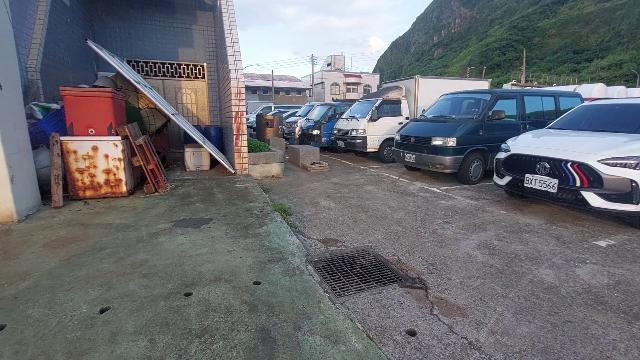pollute: (58, 69, 172, 199), (26, 99, 66, 147), (191, 125, 225, 152), (50, 133, 62, 207), (182, 143, 212, 171), (33, 147, 52, 188)
